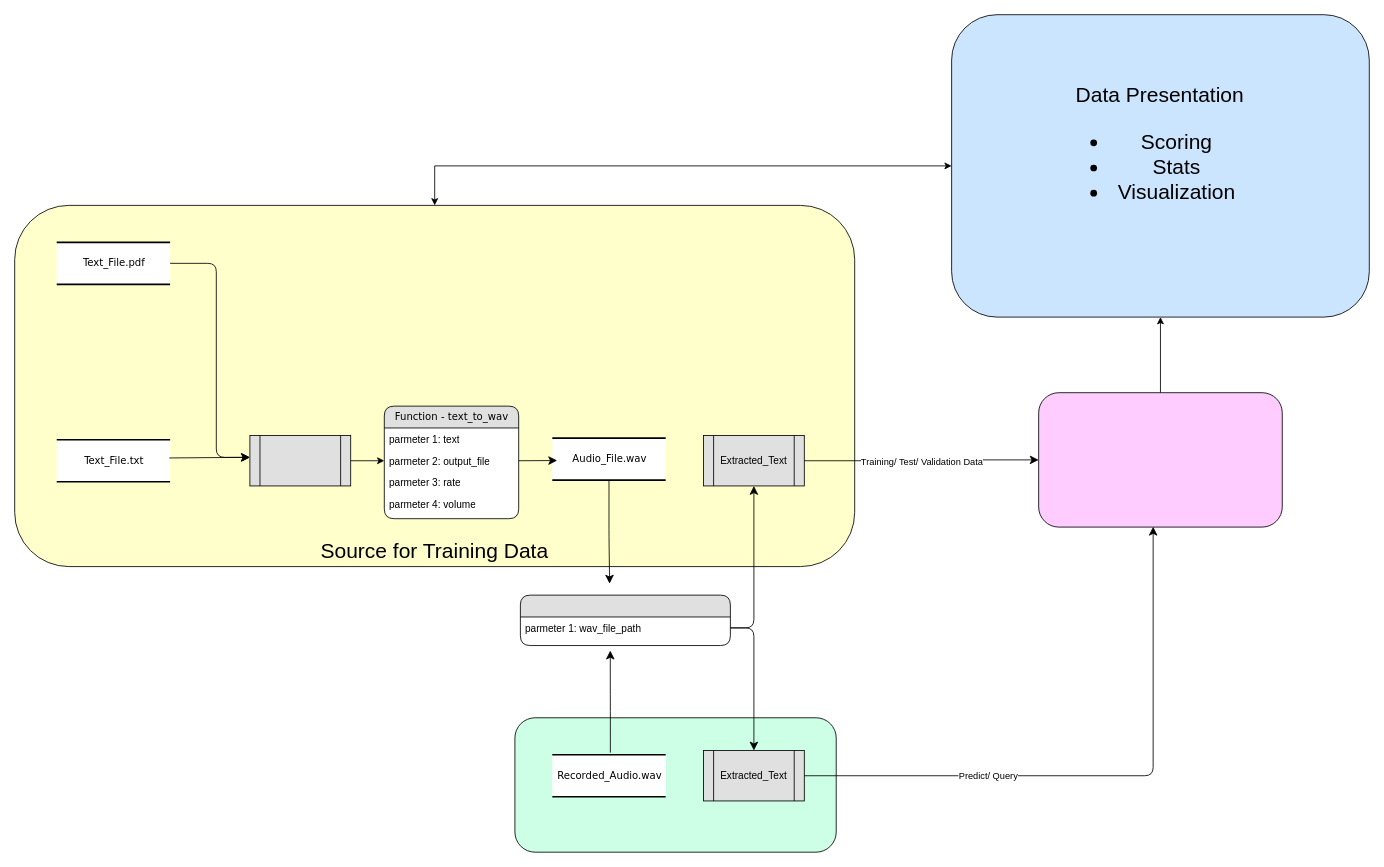
This 1384x867 diagram has some shape labels left out. Each missing label, with the box of its shape:
Clustering Model Based on Text (Majority of the Project): (1038, 392, 1282, 527)
Data From The User: (514, 717, 836, 852)
Function - wav_to_text_and_tokenize: (520, 594, 730, 646)
Text_Parser: (249, 435, 351, 486)
